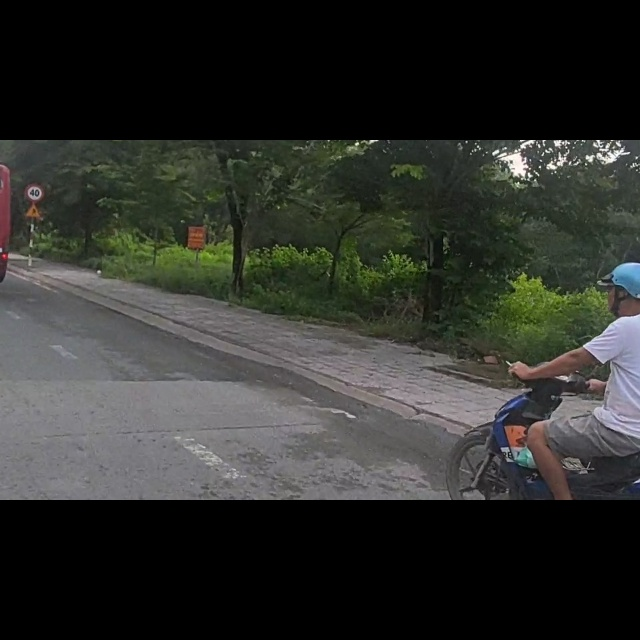bien_nguy_hiem: (25, 107, 43, 141), (27, 77, 43, 107)
